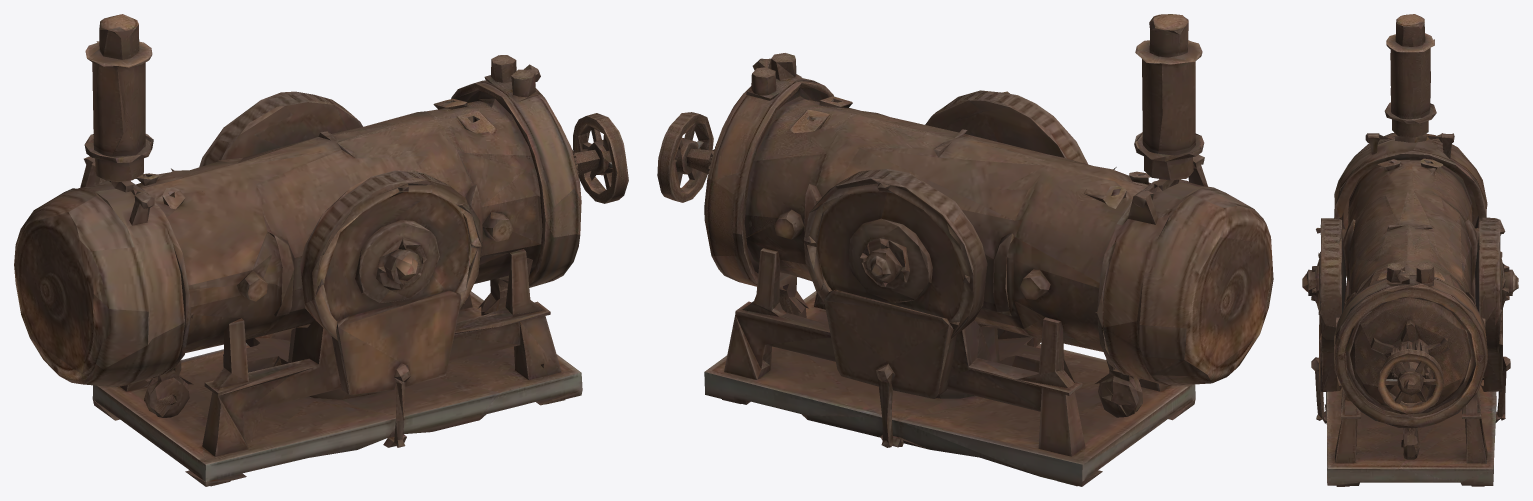
File: Palm_Oil_Mill.glb
The picture shows the model from 3 angles, left to right: view 1: azimuth 30°, elevation 25°; view 2: azimuth 150°, elevation 25°; view 3: azimuth 270°, elevation 25°; orthographic projection. The views are drawn at different scales.
Bounding box in the file's own units: 1.88 × 1.41 × 0.8487.
1 material, 1 textured.
